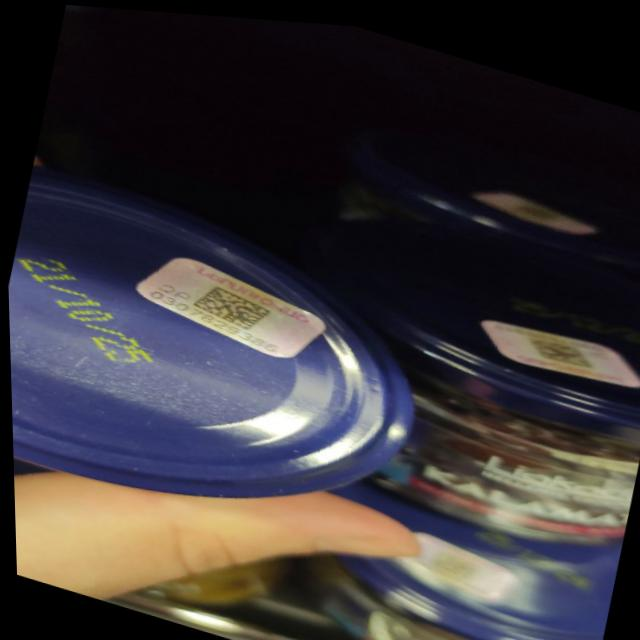datamatrix: (187, 276, 276, 335)
